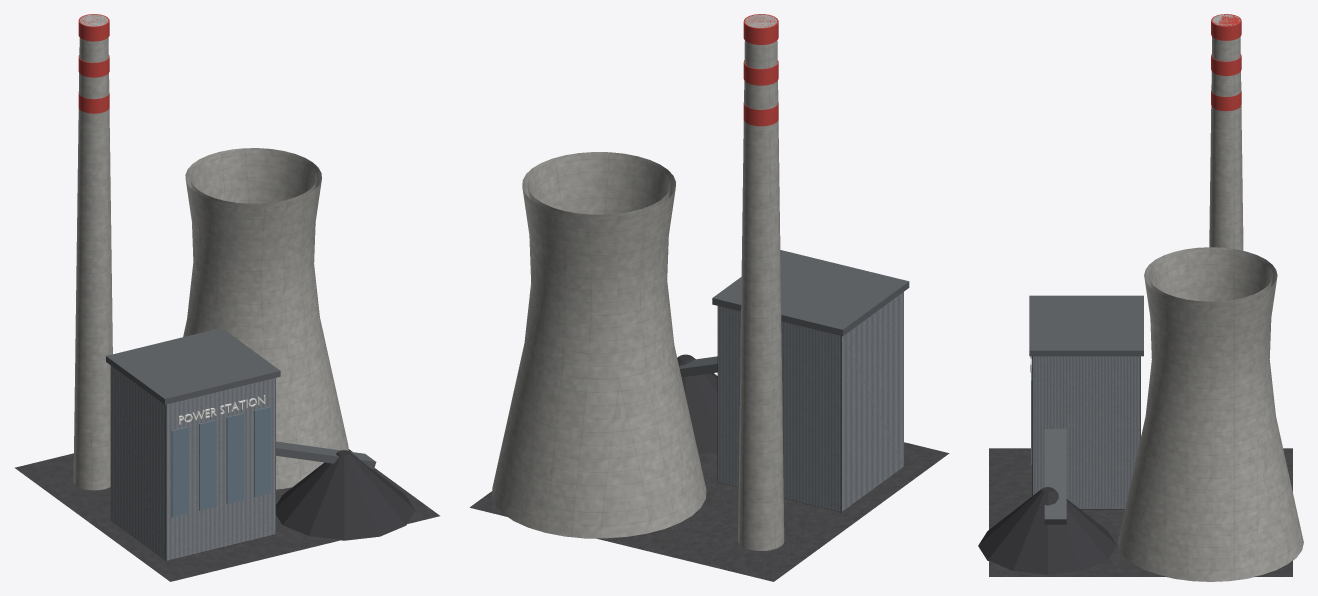
The model's file is coal.gltf.
3 renders of one model, left to right at view 1: azimuth 30°, elevation 25°; view 2: azimuth 150°, elevation 25°; view 3: azimuth 270°, elevation 25°, orthographic. The views are drawn at different scales.
Visible parts, largest first — view 1: coal; view 2: coal; view 3: coal.
Boxes of the visible parts, x1=… form: coal: x1=14, y1=14, x2=439, y2=581; coal: x1=470, y1=14, x2=949, y2=581; coal: x1=978, y1=14, x2=1303, y2=581.
Bounding box in the file's own units: 4.06 × 6.4 × 4.2.
8 materials, 3 textured.
